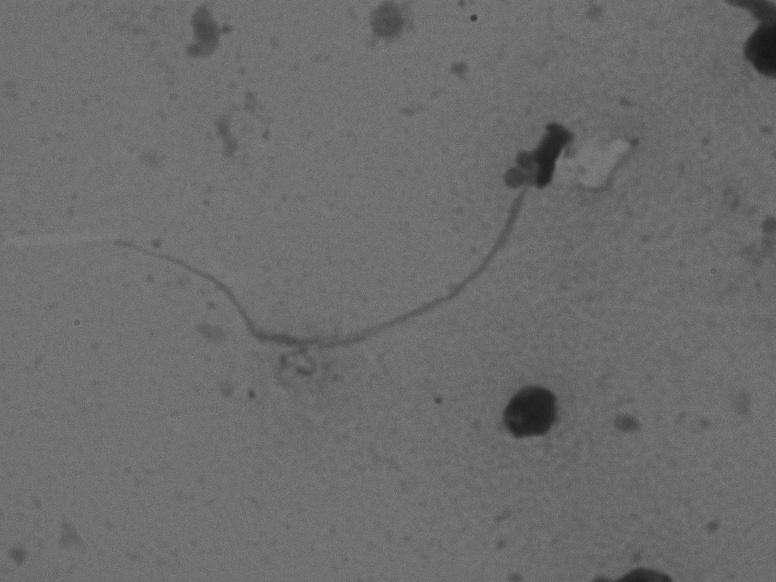Abnormal: (92, 84, 594, 376)
